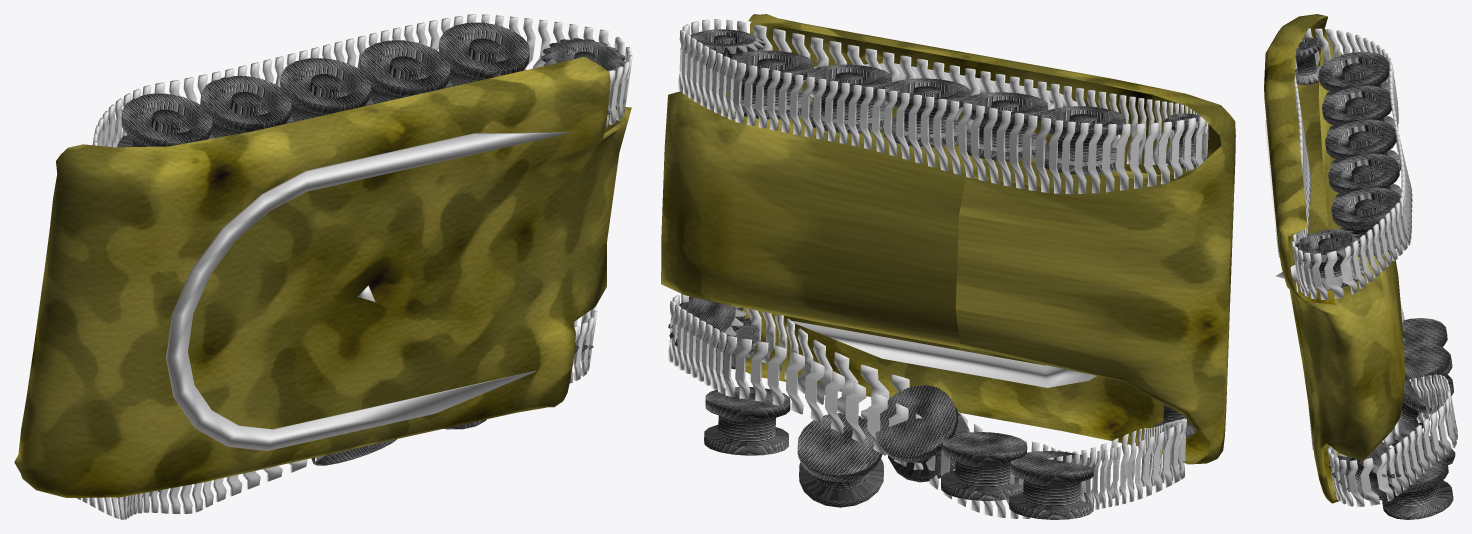
The model's file is Guardian_dead.fbx.
The picture shows the model from 3 angles, left to right: view 1: azimuth 30°, elevation 25°; view 2: azimuth 150°, elevation 25°; view 3: azimuth 270°, elevation 25°; orthographic projection. The views are drawn at different scales.
Visible parts, largest first — view 1: Body0, Wheels_WheelsMat, Color1_None, Color0_None; view 2: Body0, Color0_None, Wheels_WheelsMat, Color1_None; view 3: Body0, Wheels_WheelsMat, Color0_None, Color1_None.
Part boxes in pixels (box(x1,y1,x2,y2)): Body0: box(14, 56, 631, 497); Wheels_WheelsMat: box(117, 22, 625, 498); Color1_None: box(166, 132, 569, 450); Color0_None: box(76, 14, 632, 519); Body0: box(661, 14, 1235, 464); Color0_None: box(668, 19, 1208, 518); Wheels_WheelsMat: box(668, 29, 1206, 519); Color1_None: box(791, 63, 1120, 387); Body0: box(1264, 14, 1405, 503); Wheels_WheelsMat: box(1295, 37, 1455, 519); Color0_None: box(1292, 28, 1457, 506); Color1_None: box(1265, 120, 1313, 450).
Size of the model in its own units: 130 by 91.21 by 46.27.
2 materials, 2 textured.
